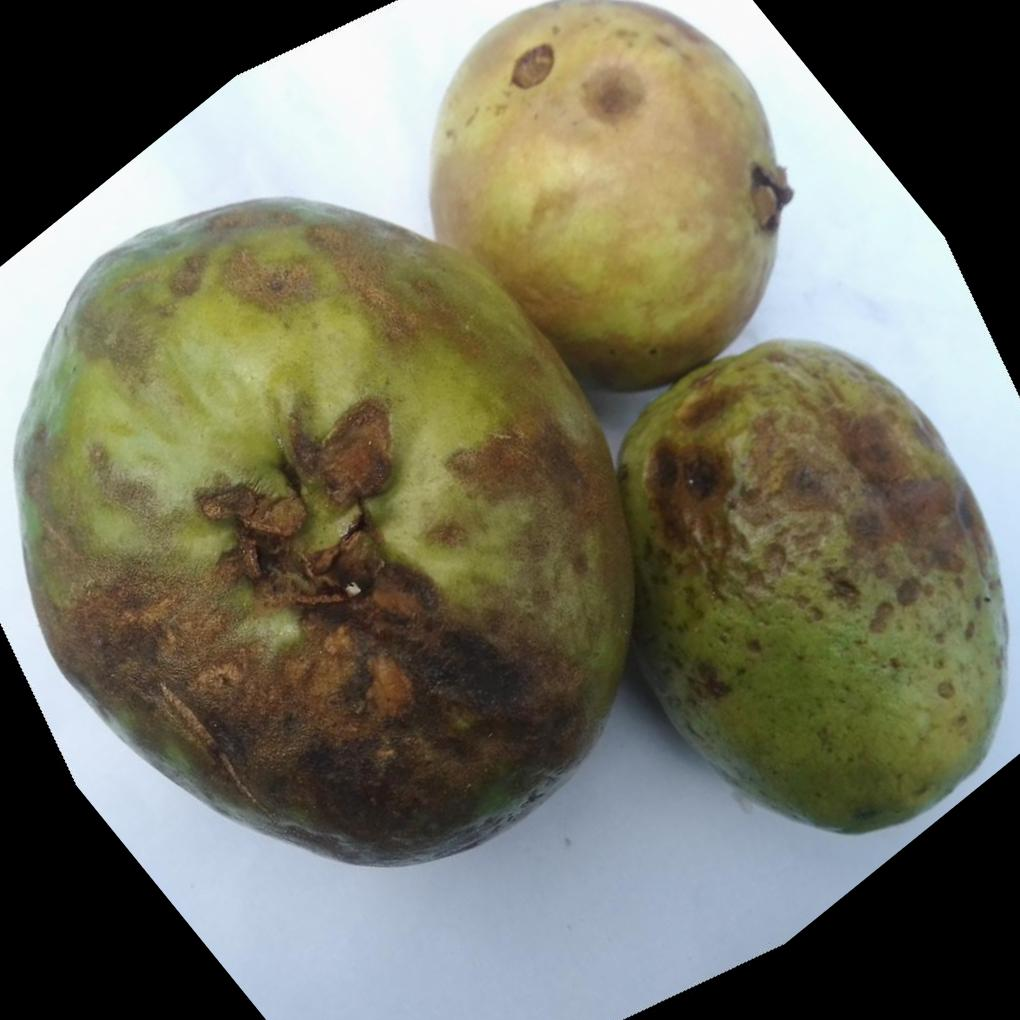FreshOrange: (14, 0, 1014, 871)
